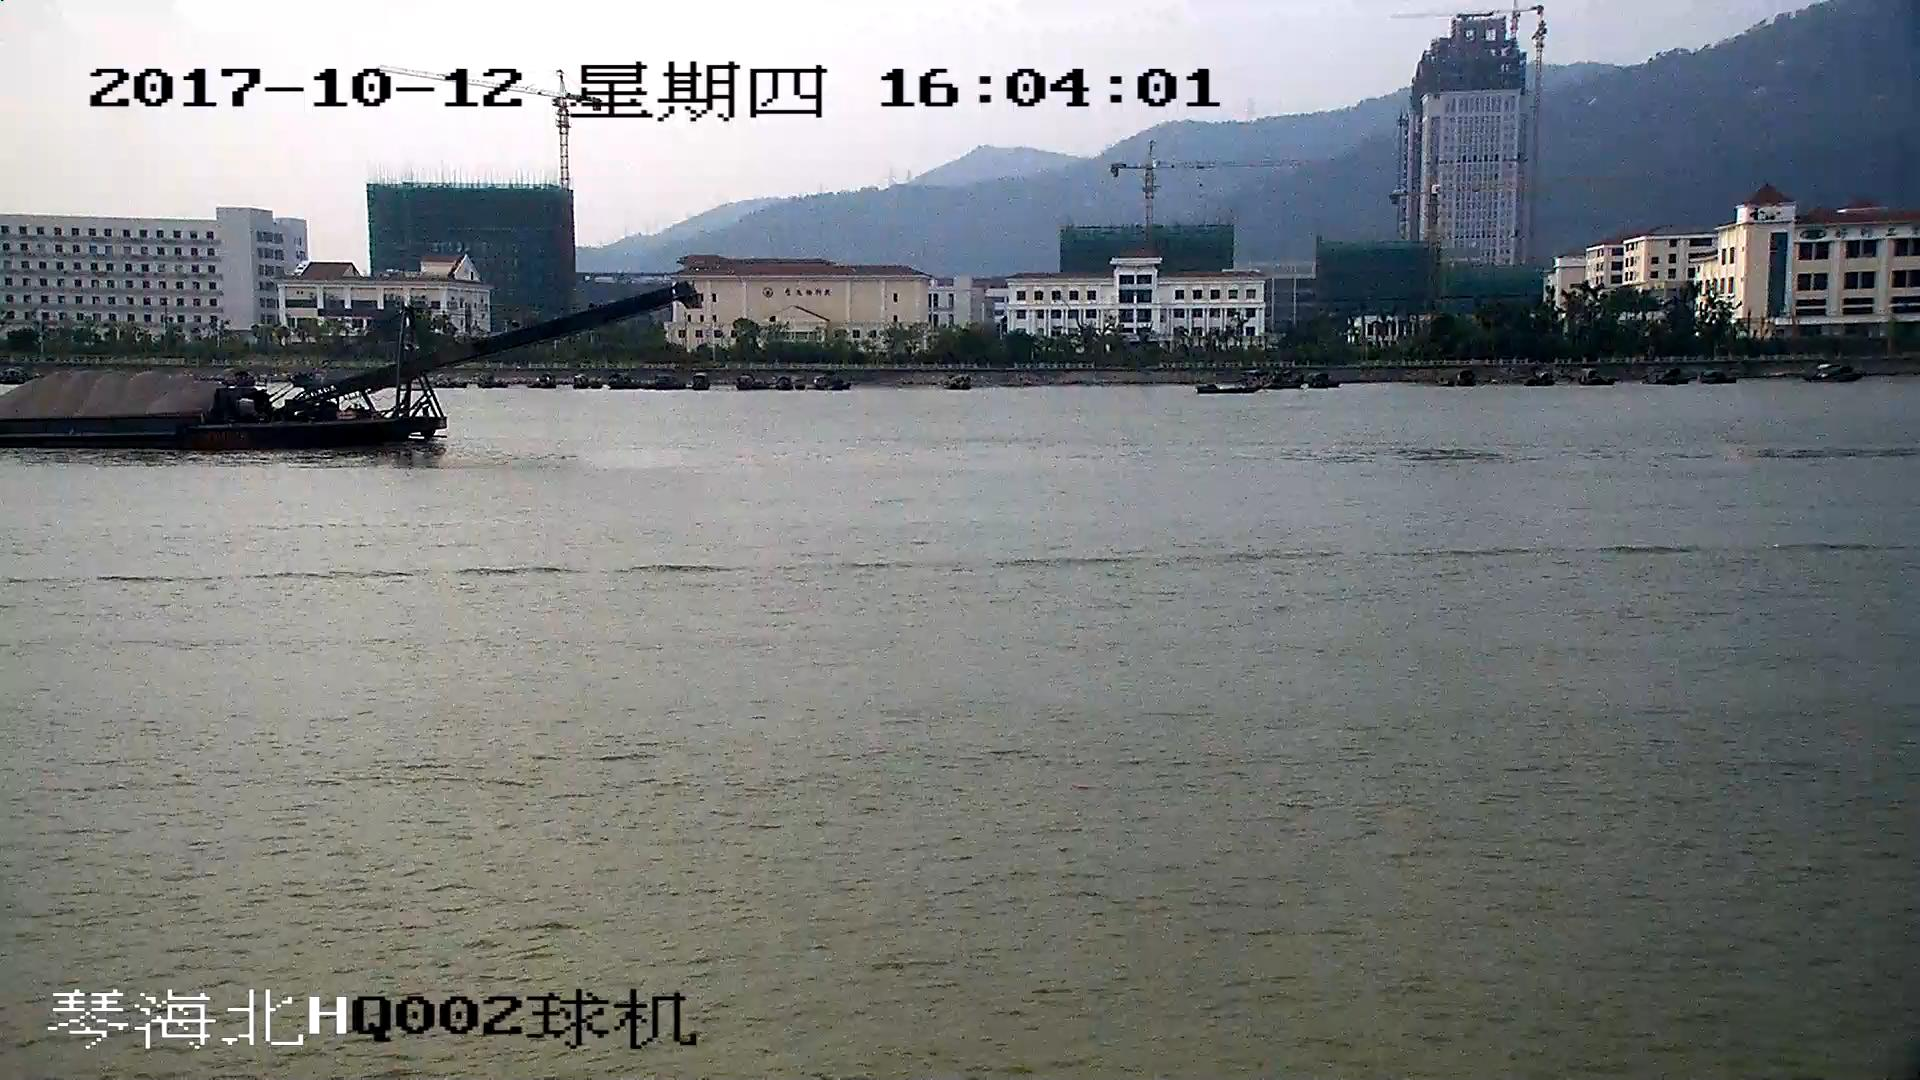ore carrier: (1, 285, 679, 452)
